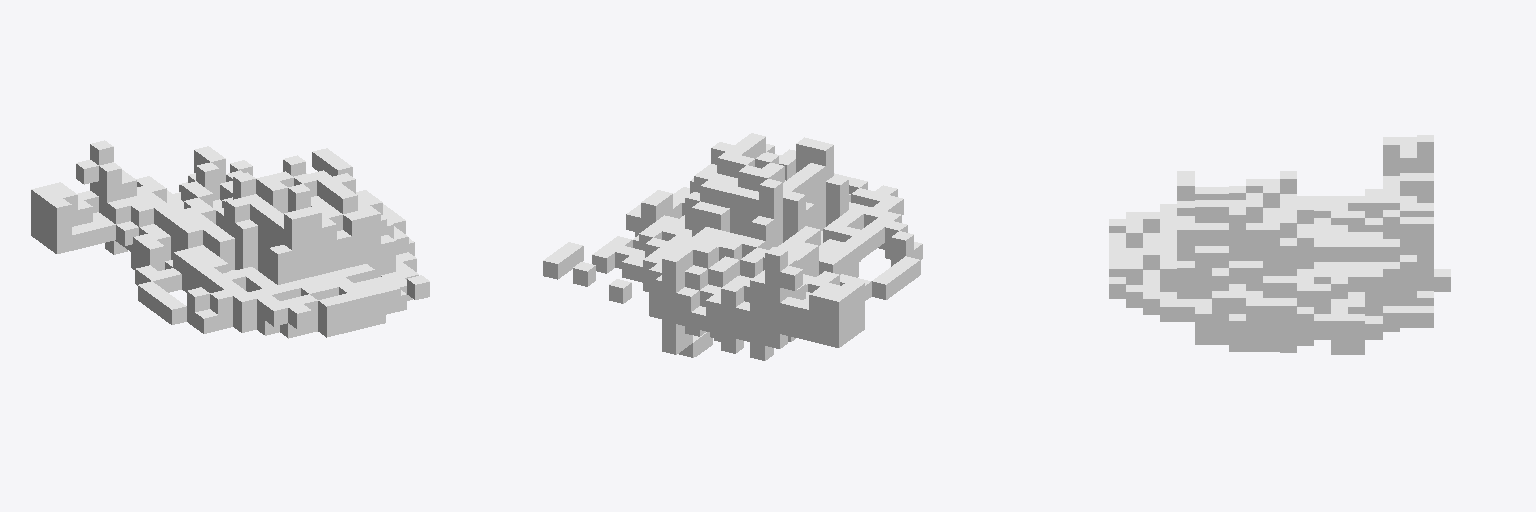
The model's file is Cloud-2.obj.
3 renders of one model, left to right at view 1: azimuth 30°, elevation 25°; view 2: azimuth 150°, elevation 25°; view 3: azimuth 270°, elevation 25°, orthographic.
Visible parts, largest first — view 1: object 1; view 2: object 1; view 3: object 1.
Part boxes in pixels (x1,y1,x2,y2): object 1: (31, 140, 429, 338); object 1: (543, 133, 922, 360); object 1: (1109, 135, 1450, 354).
Size of the model in its own units: 2 by 1 by 2.